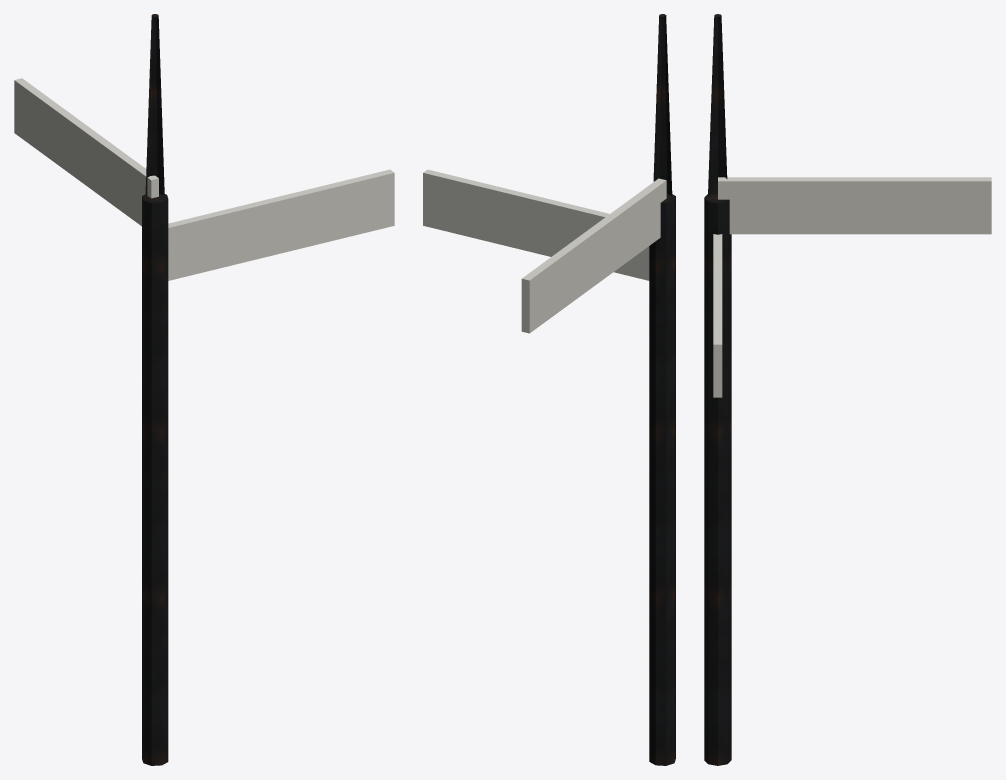
The model's file is B_fingerpost.glb.
3 renders of one model, left to right at view 1: azimuth 30°, elevation 25°; view 2: azimuth 150°, elevation 25°; view 3: azimuth 270°, elevation 25°, orthographic.
Visible parts, largest first — view 1: B_fingerpost; view 2: B_fingerpost; view 3: B_fingerpost.
Part boxes in pixels (box(x1,y1,x2,y2)): B_fingerpost: box(14, 14, 394, 765); B_fingerpost: box(423, 14, 675, 765); B_fingerpost: box(704, 14, 991, 765).
Bounding box in the file's own units: 1.58 × 4.5 × 1.58.
2 materials, 1 textured.
